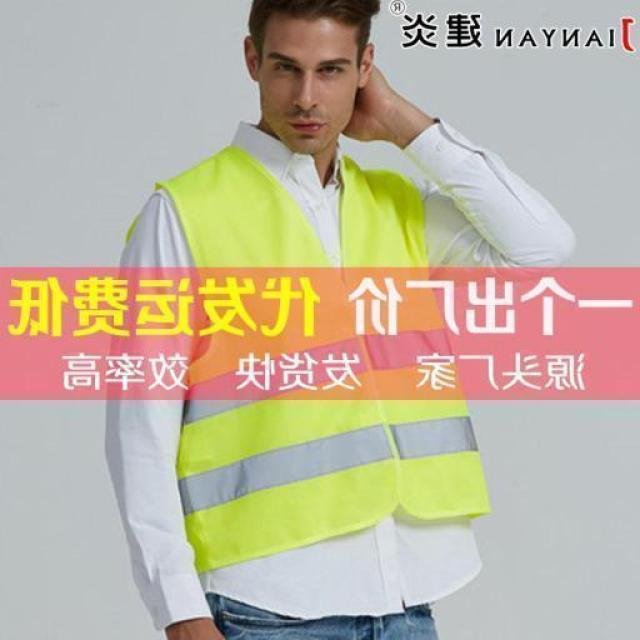vest: (154, 142, 494, 570)
